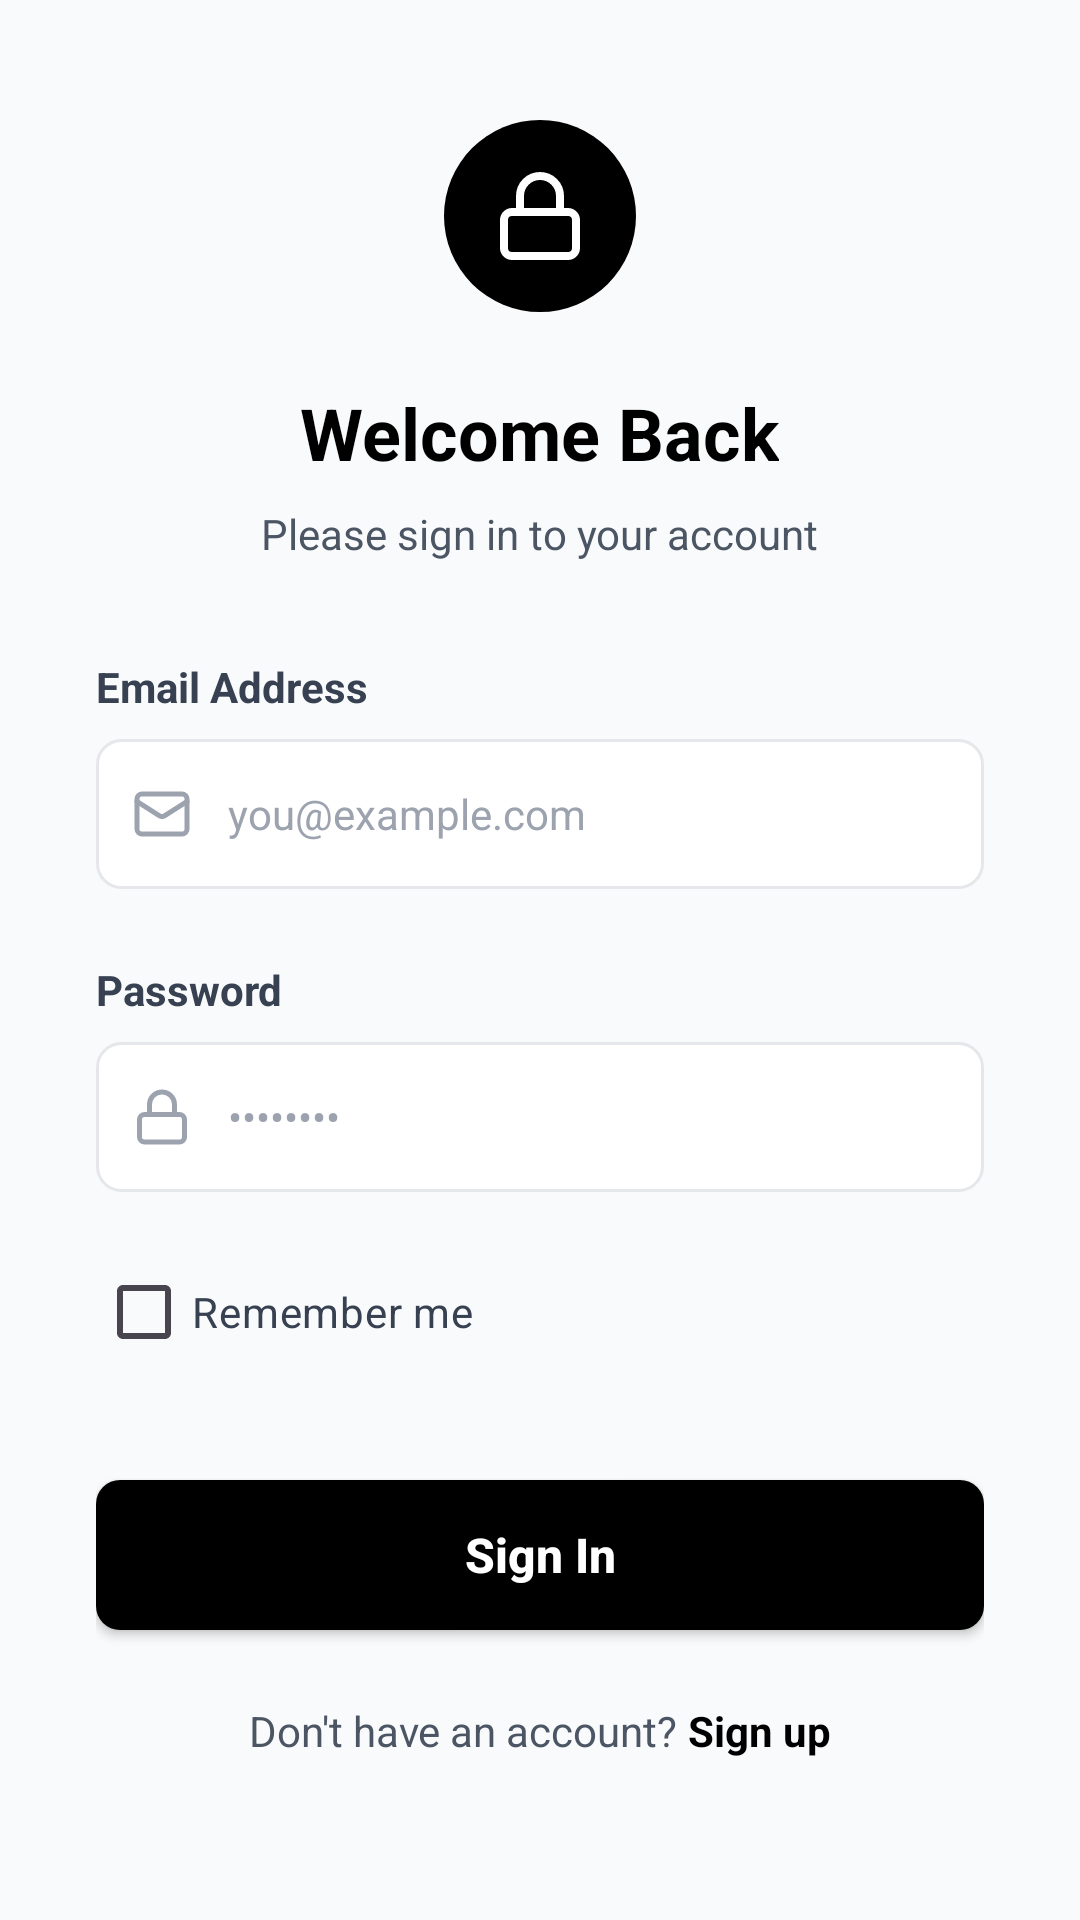

Where to tap for icons on this 1080px×1920px app screen, as point (x, y):
lock: point (162, 1117)
Lock Icon: point (540, 216)
